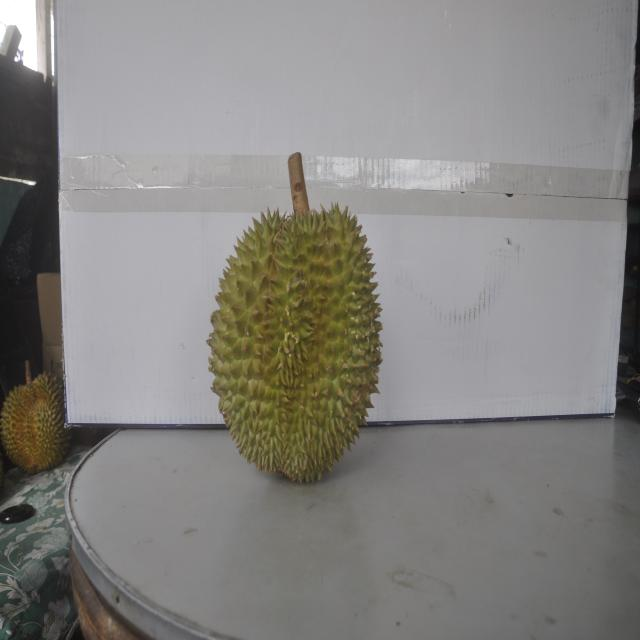mature: (207, 185, 380, 484), (0, 370, 71, 474)
